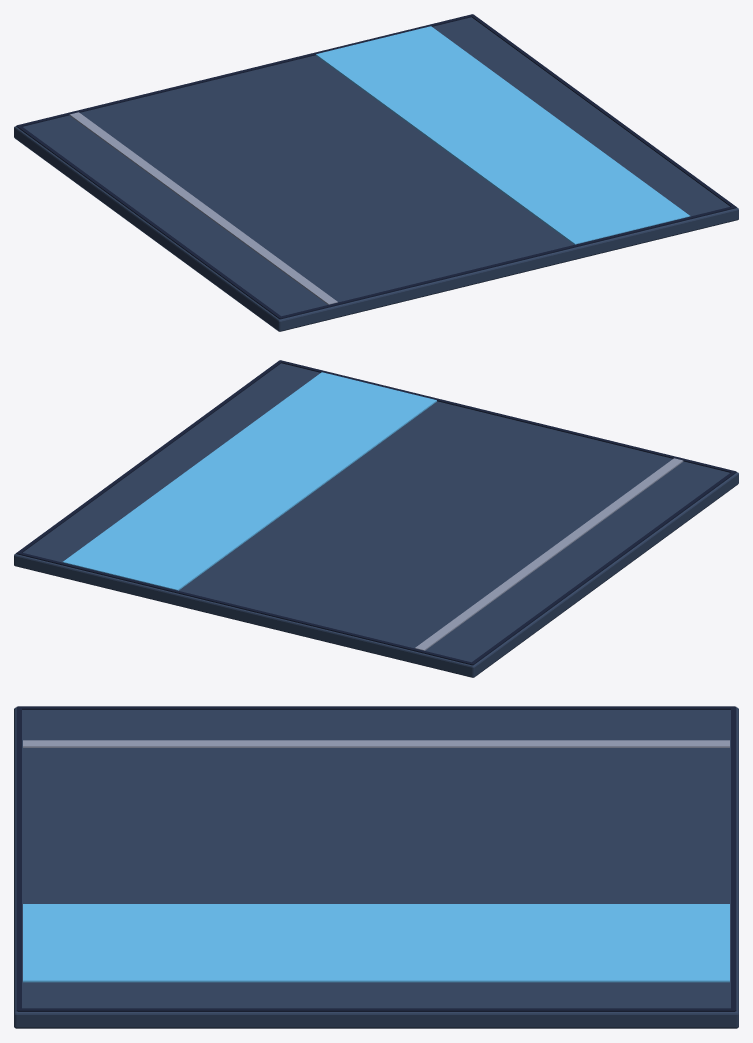
File: sol_tuile_bleu.glb
3 views of the same model, one above another, from view 1: azimuth 30°, elevation 25°; view 2: azimuth 150°, elevation 25°; view 3: azimuth 270°, elevation 25° (orthographic). The views are drawn at different scales.
Parts seen in each view (by area): view 1: Sol, Bande, Ligne, JointS, JointN, JointO, JointE; view 2: Sol, Bande, Ligne, JointN, JointS, JointO, JointE; view 3: Sol, Bande, Ligne, JointE, JointO, JointN, JointS.
Boxes of the visible parts, box(x1,y1,x2,y2) form: Sol: box(14, 17, 738, 331); Bande: box(316, 26, 690, 244); Ligne: box(69, 112, 337, 304); JointS: box(280, 206, 736, 319); JointN: box(17, 14, 472, 126); JointO: box(16, 125, 282, 319); JointE: box(470, 14, 736, 207); Sol: box(14, 363, 738, 677); Bande: box(62, 372, 436, 590); Ligne: box(415, 458, 683, 650); JointN: box(16, 552, 473, 665); JointS: box(280, 360, 735, 472); JointO: box(470, 471, 736, 665); JointE: box(16, 360, 282, 553); Sol: box(14, 707, 738, 1028); Bande: box(23, 904, 729, 982); Ligne: box(23, 740, 729, 747); JointE: box(17, 1008, 735, 1011); JointO: box(17, 706, 735, 709); JointN: box(731, 706, 736, 1011); JointS: box(16, 706, 21, 1011).
Size of the model in its own units: 4 by 0.111 by 4.
